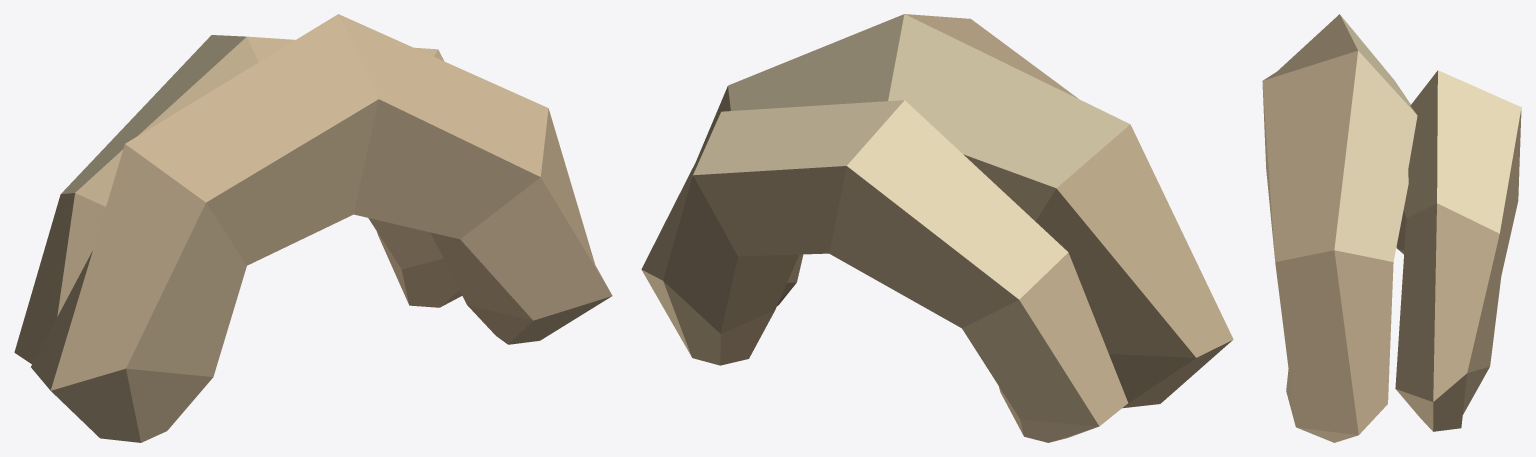
Rendered from TB_D_Env_BoneH_A.FBX.
3 renders of one model, left to right at view 1: azimuth 30°, elevation 25°; view 2: azimuth 150°, elevation 25°; view 3: azimuth 270°, elevation 25°, orthographic. The views are drawn at different scales.
Parts seen in each view (by area): view 1: TB_D_Env_BoneH_A; view 2: TB_D_Env_BoneH_A; view 3: TB_D_Env_BoneH_A.
Boxes of the visible parts, x1,y1,x2,y2 form: TB_D_Env_BoneH_A: (14,14,612,442); TB_D_Env_BoneH_A: (641,14,1233,442); TB_D_Env_BoneH_A: (1262,14,1521,442).
Bounding box in the file's own units: 1.65 × 0.9755 × 0.7415.
